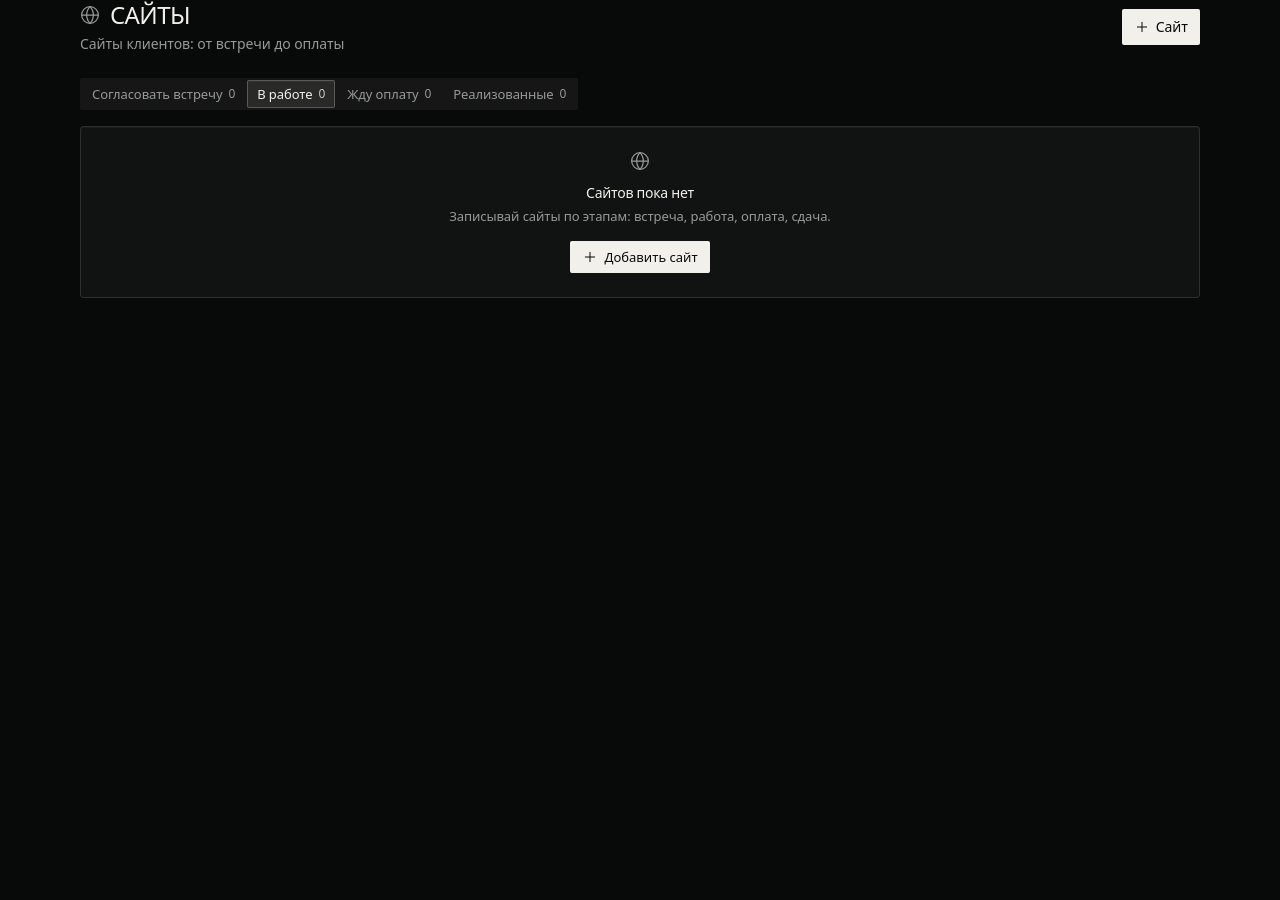
Test: SitesPage › refuses an amount it cannot read and keeps the dialog open
Click the button "Сайт" at (1161, 27), box [1122,9,1200,45]
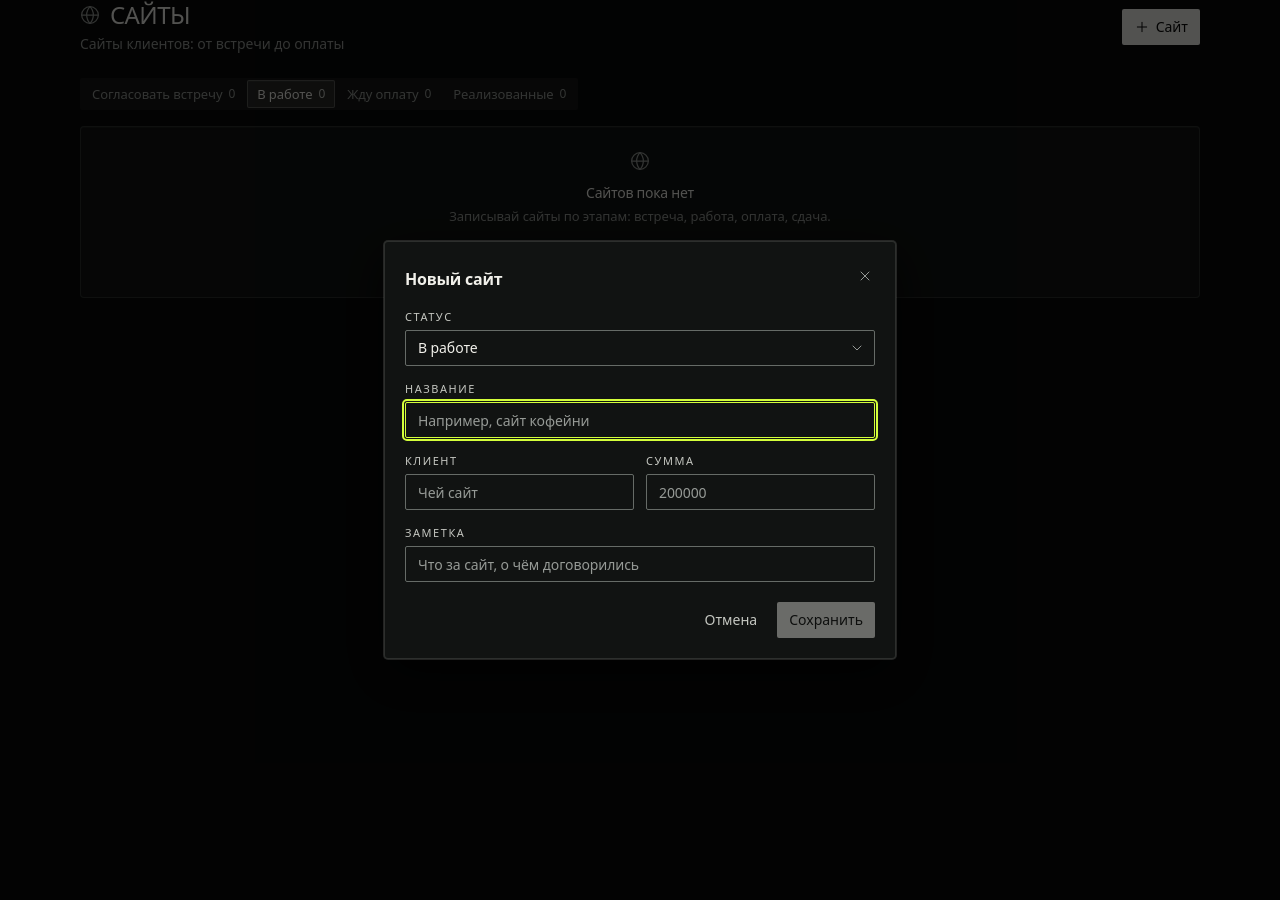
Type "Сайт кофейни" into the field labelled "Название" at (640, 420), box [405,402,875,438]
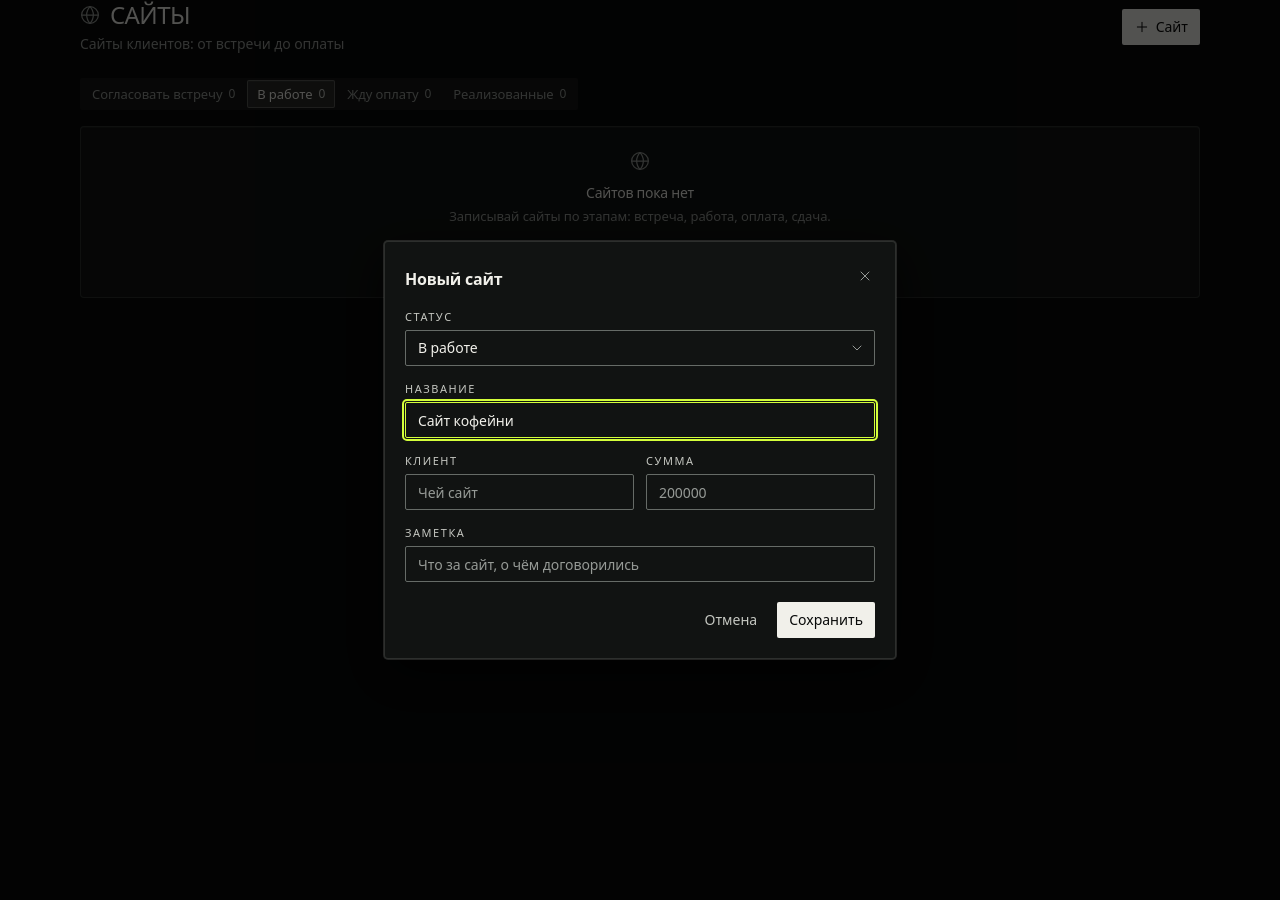
Type "много" into the field labelled "Сумма" at (760, 492), box [646,474,875,510]
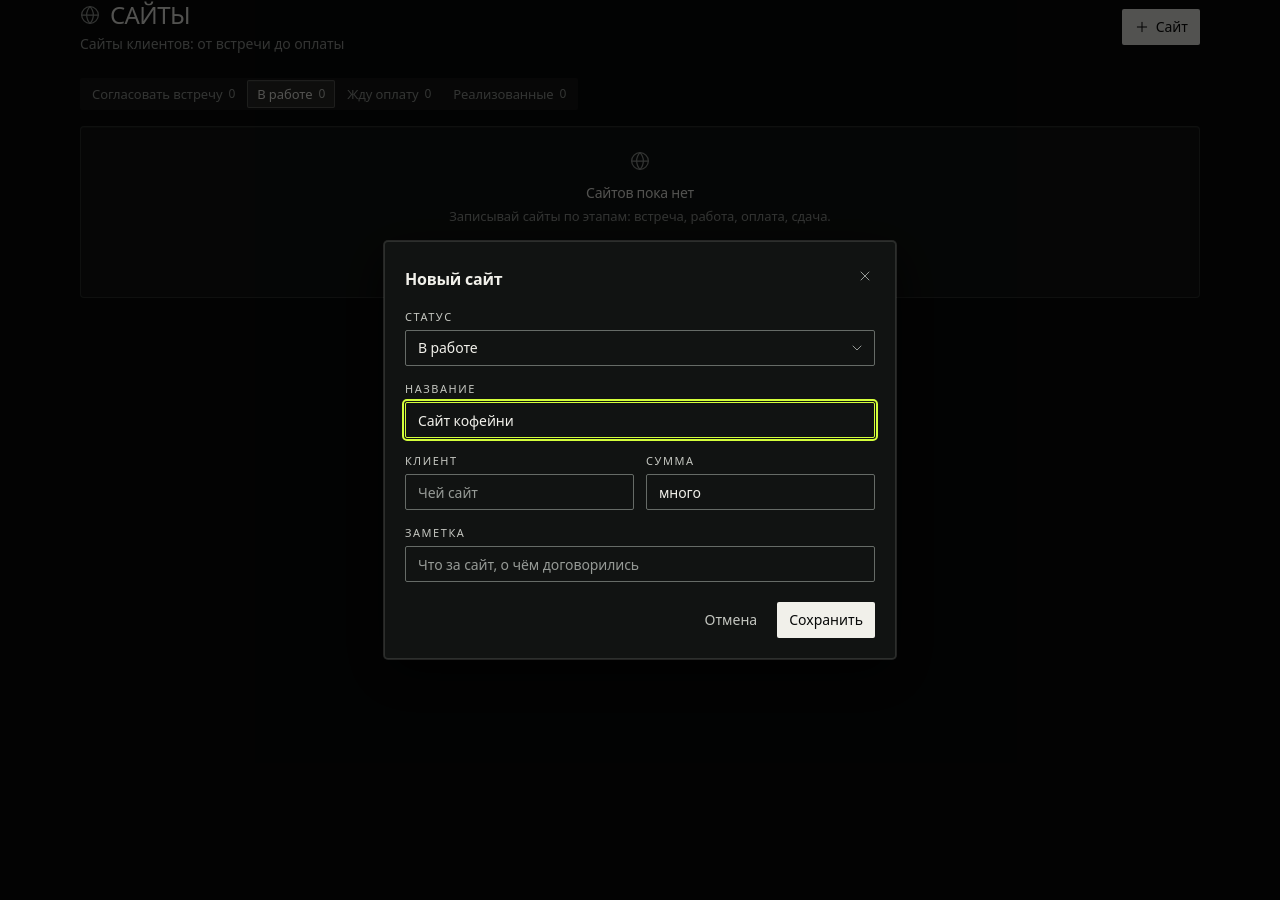
Click the button "Сохранить" at (826, 620), box [777,602,875,638]
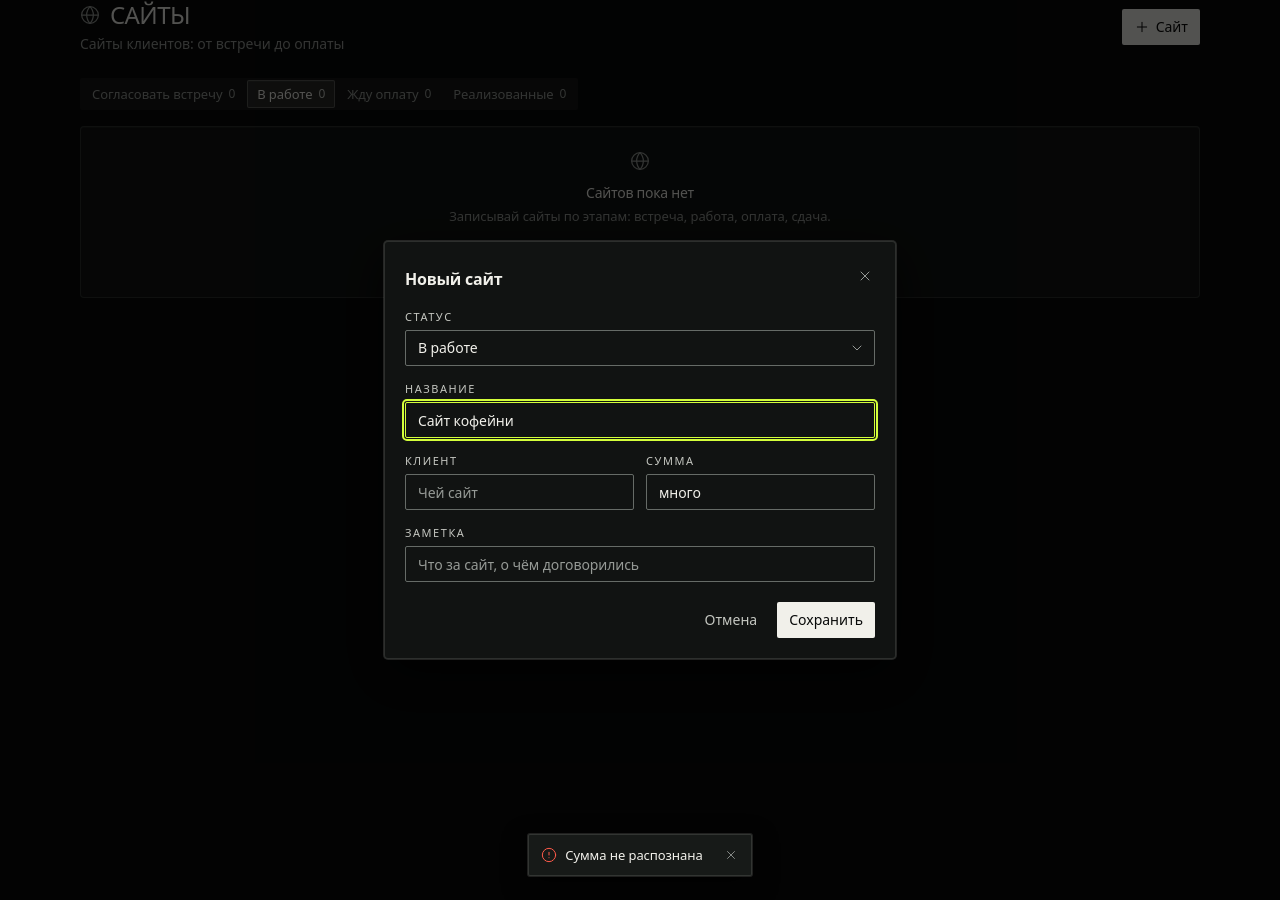
Expected: the dialog "Новый сайт" is shown, [384,241,896,659]
Expected: the text "Сумма не распознана" is shown, [565,842,707,868]
